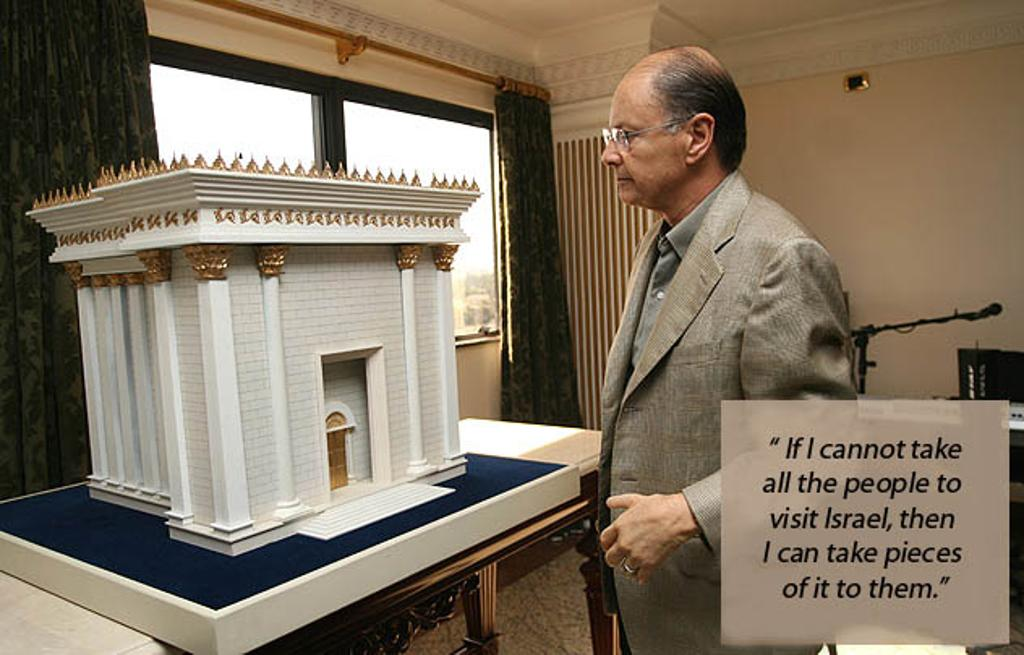face: (600, 68, 676, 210)
